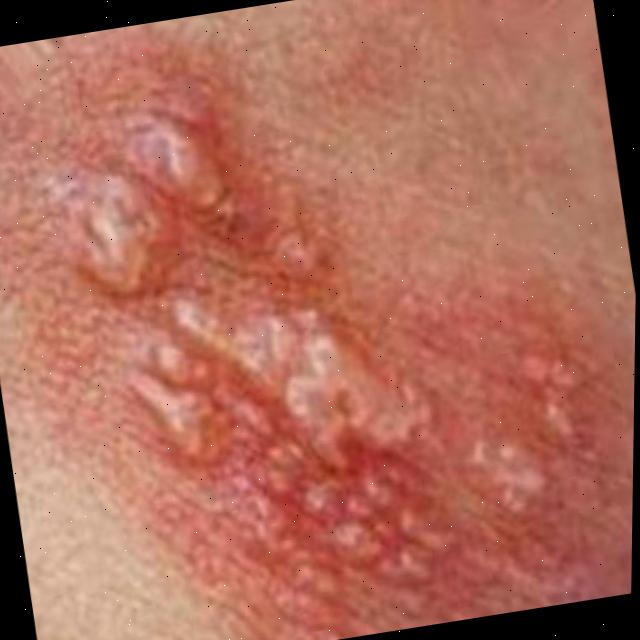Shingles: (56, 67, 593, 632)
